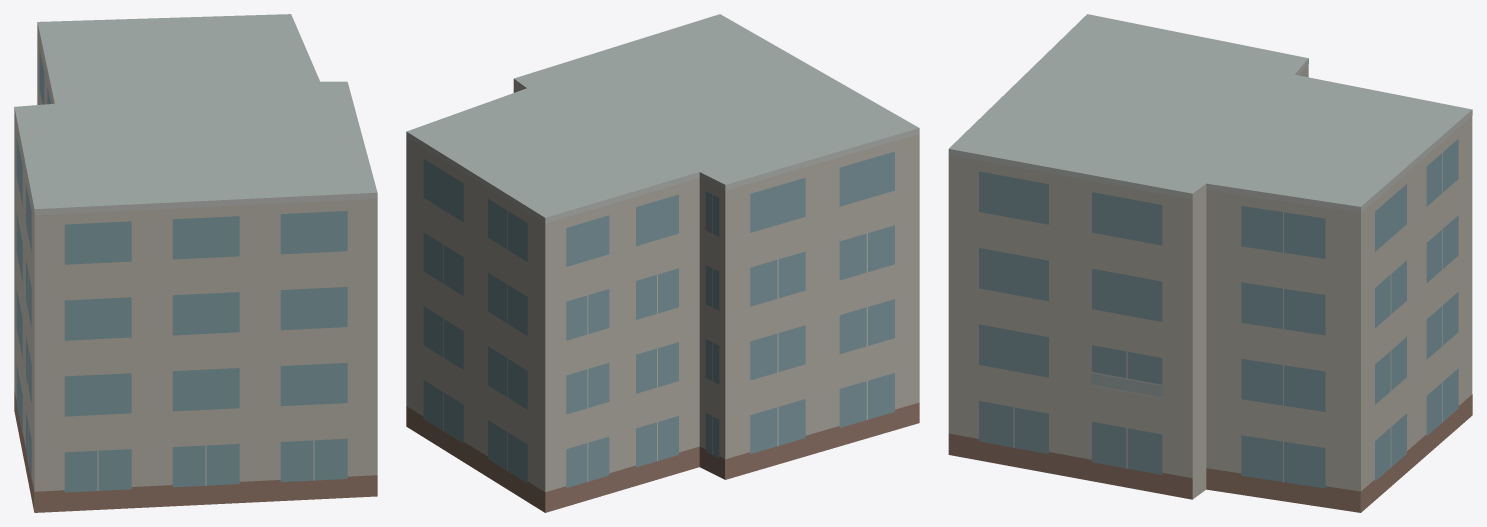
Rendered from survey-upis-32672110.glb.
3 renders of one model, left to right at view 1: azimuth 30°, elevation 25°; view 2: azimuth 150°, elevation 25°; view 3: azimuth 270°, elevation 25°, orthographic. The views are drawn at different scales.
Parts seen in each view (by area): view 1: survey-upis-32672110.tmp; view 2: survey-upis-32672110.tmp; view 3: survey-upis-32672110.tmp.
Part boxes in pixels (<box>): survey-upis-32672110.tmp: <box>14,14,377,512</box>; survey-upis-32672110.tmp: <box>406,14,919,512</box>; survey-upis-32672110.tmp: <box>948,14,1472,512</box>.
Bounding box in the file's own units: 16.64 × 12.3 × 19.09.
